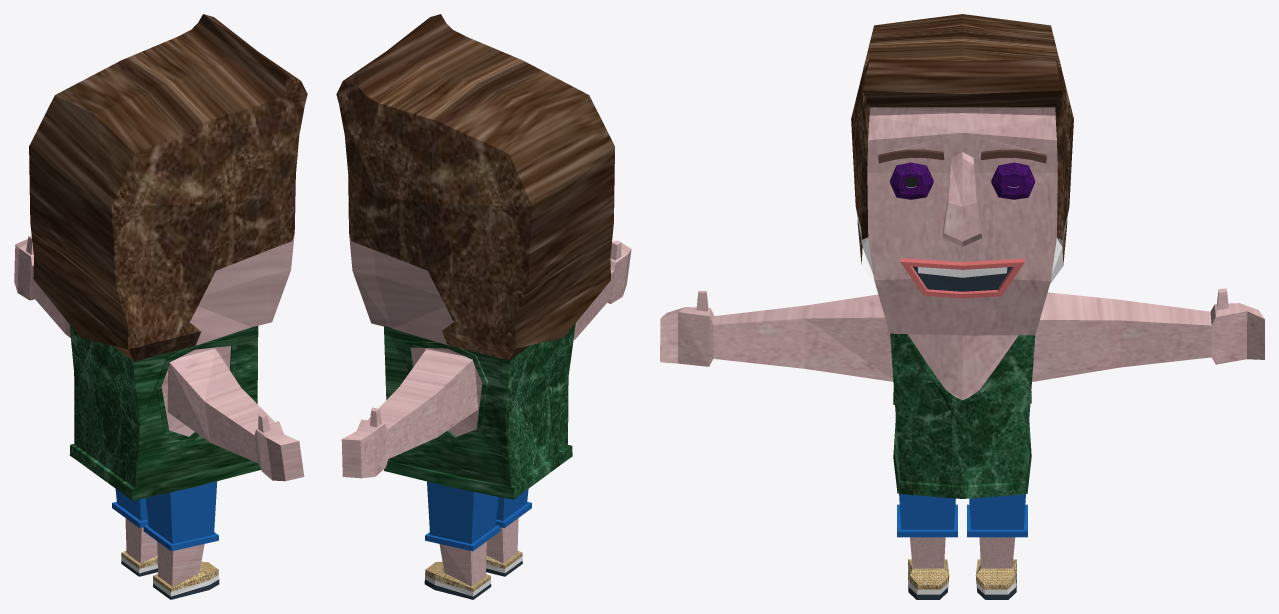
Rendered from chico.gltf.
3 renders of one model, left to right at view 1: azimuth 30°, elevation 25°; view 2: azimuth 150°, elevation 25°; view 3: azimuth 270°, elevation 25°, orthographic. The views are drawn at different scales.
Parts seen in each view (by area): view 1: mesh_0_21, mesh_0_5, mesh_0_14, mesh_0_15, mesh_0_12, mesh_0_16, mesh_0_17, mesh_0_18, mesh_0_10, mesh_0_1, mesh_0_9; view 2: mesh_0_21, mesh_0_5, mesh_0_16, mesh_0_15, mesh_0_12, mesh_0_14, mesh_0_18, mesh_0_17, mesh_0_11, mesh_0_1, mesh_0_9; view 3: mesh_0_15, mesh_0_21, mesh_0_5, mesh_0_16, mesh_0_14, mesh_0_12, mesh_0_4, mesh_0_19, mesh_0_6, mesh_0_8, mesh_0_1, mesh_0_7 (+5 smaller).
Boxes of the visible parts, box(x1,y1,x2,y2) form: mesh_0_21: box(29, 14, 307, 361); mesh_0_5: box(69, 324, 260, 500); mesh_0_14: box(161, 346, 304, 481); mesh_0_15: box(190, 233, 294, 345); mesh_0_12: box(112, 481, 218, 551); mesh_0_16: box(14, 236, 70, 337); mesh_0_17: box(157, 541, 204, 586); mesh_0_18: box(125, 518, 157, 563); mesh_0_10: box(153, 561, 218, 591); mesh_0_1: box(121, 556, 219, 596); mesh_0_9: box(121, 561, 219, 599); mesh_0_21: box(336, 14, 614, 360); mesh_0_5: box(384, 323, 575, 499); mesh_0_16: box(341, 347, 482, 478); mesh_0_15: box(349, 233, 452, 344); mesh_0_12: box(425, 481, 531, 551); mesh_0_14: box(573, 240, 631, 340); mesh_0_18: box(439, 541, 486, 586); mesh_0_17: box(486, 518, 518, 563); mesh_0_11: box(425, 561, 490, 591); mesh_0_1: box(425, 556, 522, 596); mesh_0_9: box(424, 561, 522, 599); mesh_0_15: box(867, 107, 1057, 399); mesh_0_21: box(851, 14, 1073, 265); mesh_0_5: box(890, 333, 1035, 498); mesh_0_16: box(1032, 288, 1264, 381); mesh_0_14: box(660, 291, 893, 381); mesh_0_12: box(897, 493, 1027, 537); mesh_0_4: box(900, 258, 1024, 298); mesh_0_19: box(878, 149, 1046, 187); mesh_0_6: box(913, 266, 1012, 291); mesh_0_8: box(991, 162, 1034, 199); mesh_0_1: box(906, 186, 1018, 594); mesh_0_7: box(890, 162, 933, 199).
Bounding box in the file's own units: 2.52 × 5.94 × 5.75.
Materials: 13 (11 with a texture image).
